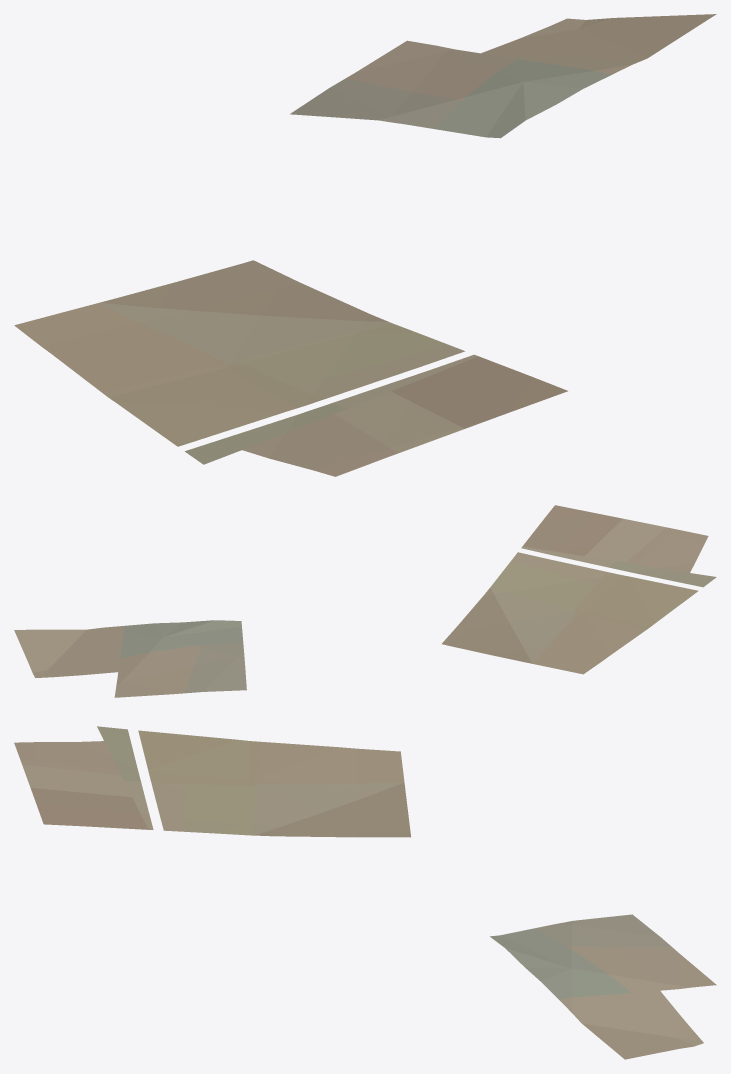
The model's file is farm_-3_0_soil.glb.
3 renders of one model, top to bottom at view 1: azimuth 30°, elevation 25°; view 2: azimuth 150°, elevation 25°; view 3: azimuth 270°, elevation 25°, orthographic. The views are drawn at different scales.
Parts seen in each view (by area): view 1: geometry_0; view 2: geometry_0; view 3: geometry_0.
Boxes of the visible parts, x1,y1,x2,y2 form: geometry_0: (14,14,716,476); geometry_0: (14,505,716,697); geometry_0: (14,726,716,1059).
Size of the model in its own units: 540 by 47.65 by 523.
